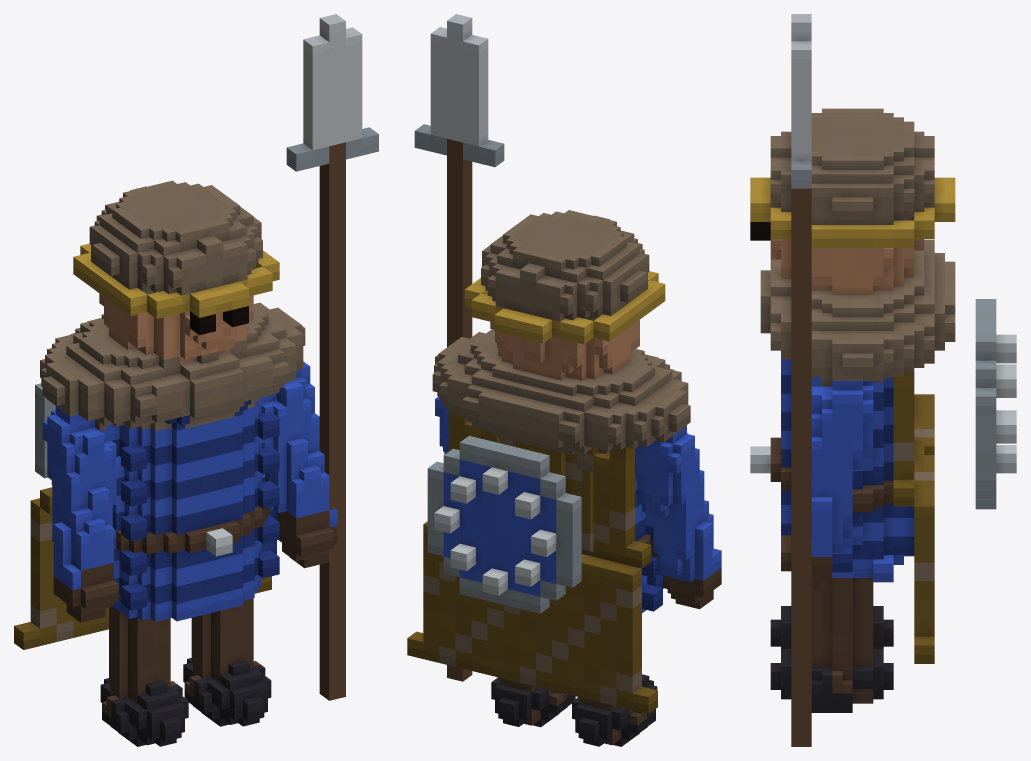
File: u_garde__trappeur.glb
3 renders of one model, left to right at view 1: azimuth 30°, elevation 25°; view 2: azimuth 150°, elevation 25°; view 3: azimuth 270°, elevation 25°, orthographic. The views are drawn at different scales.
Parts seen in each view (by area): view 1: garde_body, garde_weapon; view 2: garde_body, garde_weapon; view 3: garde_body, garde_weapon.
Boxes of the visible parts, bbox=[...] form: garde_body: bbox=[14, 180, 337, 746]; garde_weapon: bbox=[286, 14, 378, 700]; garde_body: bbox=[407, 210, 721, 746]; garde_weapon: bbox=[414, 14, 504, 681]; garde_body: bbox=[750, 108, 1016, 712]; garde_weapon: bbox=[791, 14, 811, 746].
Size of the model in its own units: 0.925 by 1.98 by 0.65.
